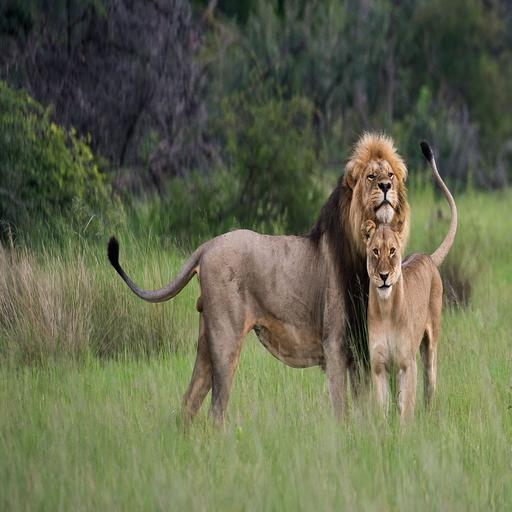Lion: (85, 128, 421, 466), (360, 153, 502, 450)
